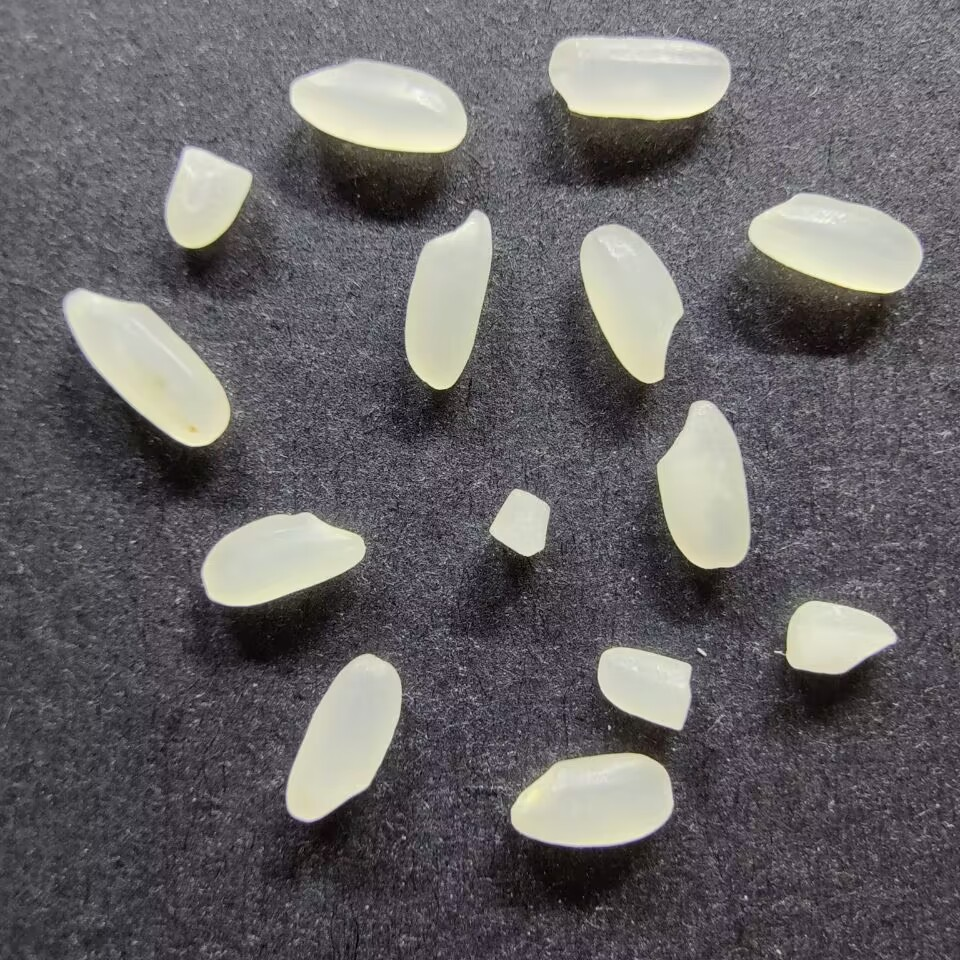broken: (162, 144, 251, 250), (782, 599, 898, 677), (597, 645, 696, 732), (486, 486, 553, 558)
rice: (60, 287, 229, 450), (284, 651, 404, 825), (745, 190, 923, 293), (577, 221, 685, 384), (287, 57, 469, 153), (400, 208, 495, 391), (197, 510, 369, 608), (653, 399, 752, 569), (546, 34, 731, 120), (510, 752, 675, 848)
